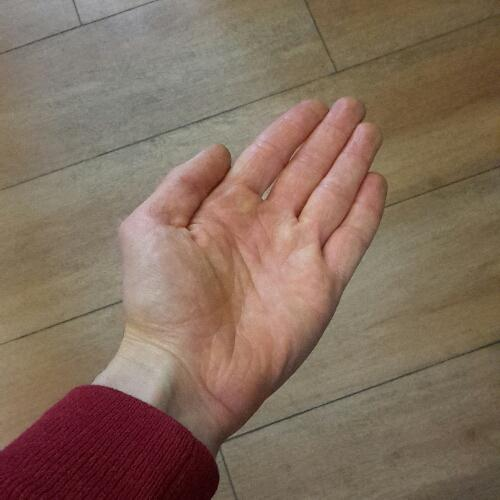paper: (107, 90, 400, 428)
